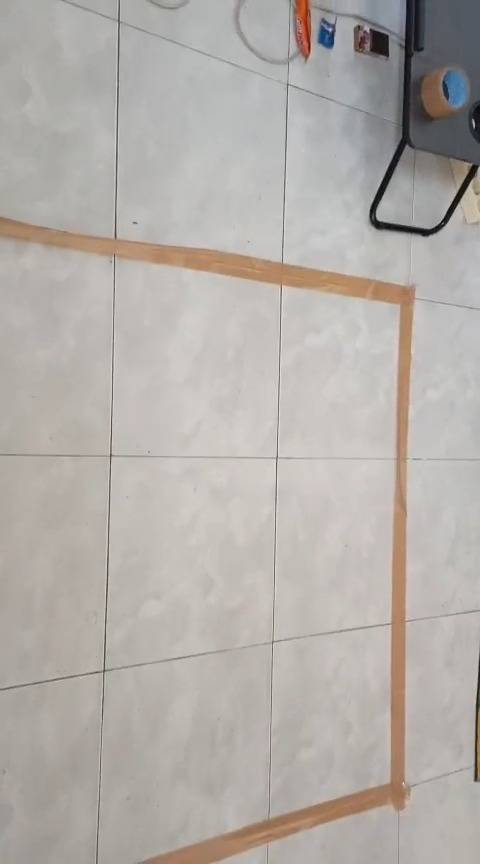floor marking: (0, 219, 414, 863)
